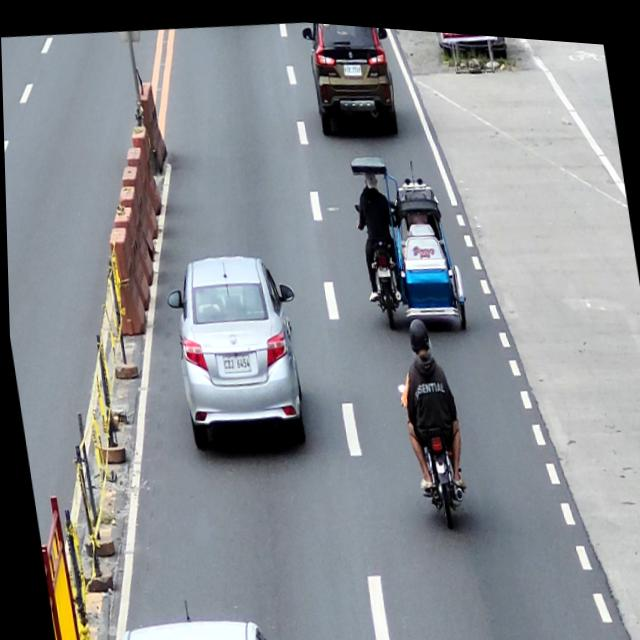Car: (159, 240, 314, 456), (299, 17, 402, 139)
License-Plate: (219, 351, 250, 372), (342, 56, 362, 72), (375, 258, 389, 273)
Motorcycle: (396, 368, 470, 530)
Tricycle: (346, 141, 469, 336)
